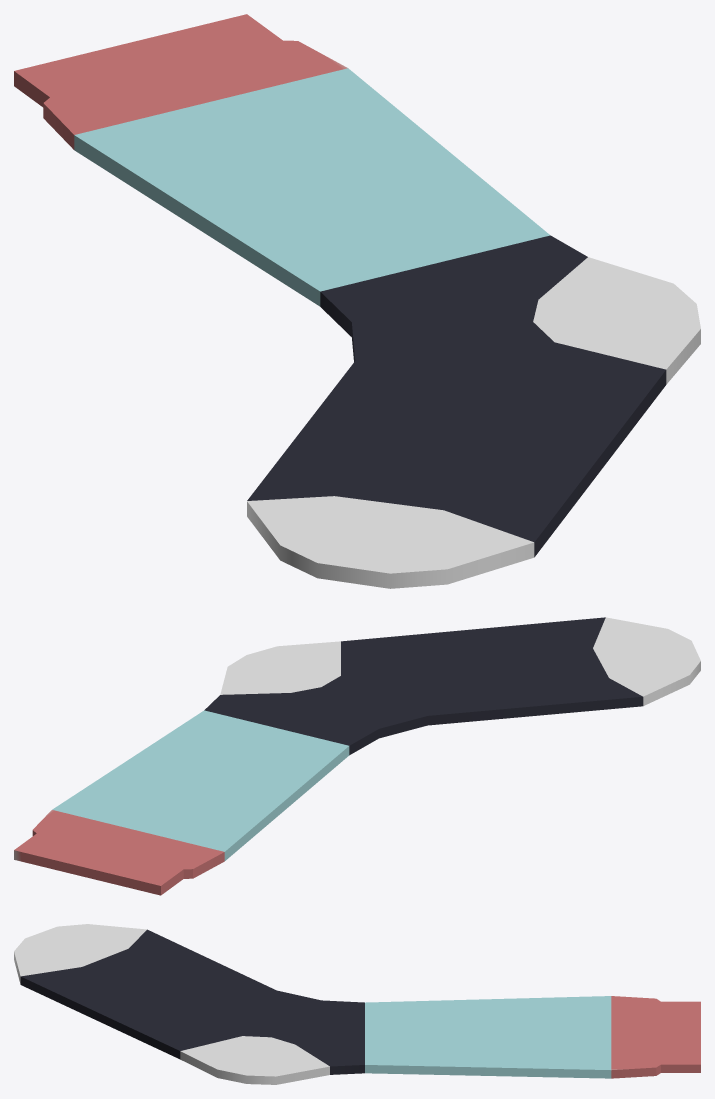
File: 58_prop_socks.FBX
3 renders of one model, top to bottom at view 1: azimuth 30°, elevation 25°; view 2: azimuth 150°, elevation 25°; view 3: azimuth 270°, elevation 25°, orthographic. The views are drawn at different scales.
Parts seen in each view (by area): view 1: prop_socks; view 2: prop_socks; view 3: prop_socks.
Boxes of the visible parts, bbox=[...] form: prop_socks: bbox=[14, 14, 700, 588]; prop_socks: bbox=[14, 617, 700, 895]; prop_socks: bbox=[14, 924, 700, 1084].
Bounding box in the file's own units: 13.47 × 0.3482 × 25.64.
